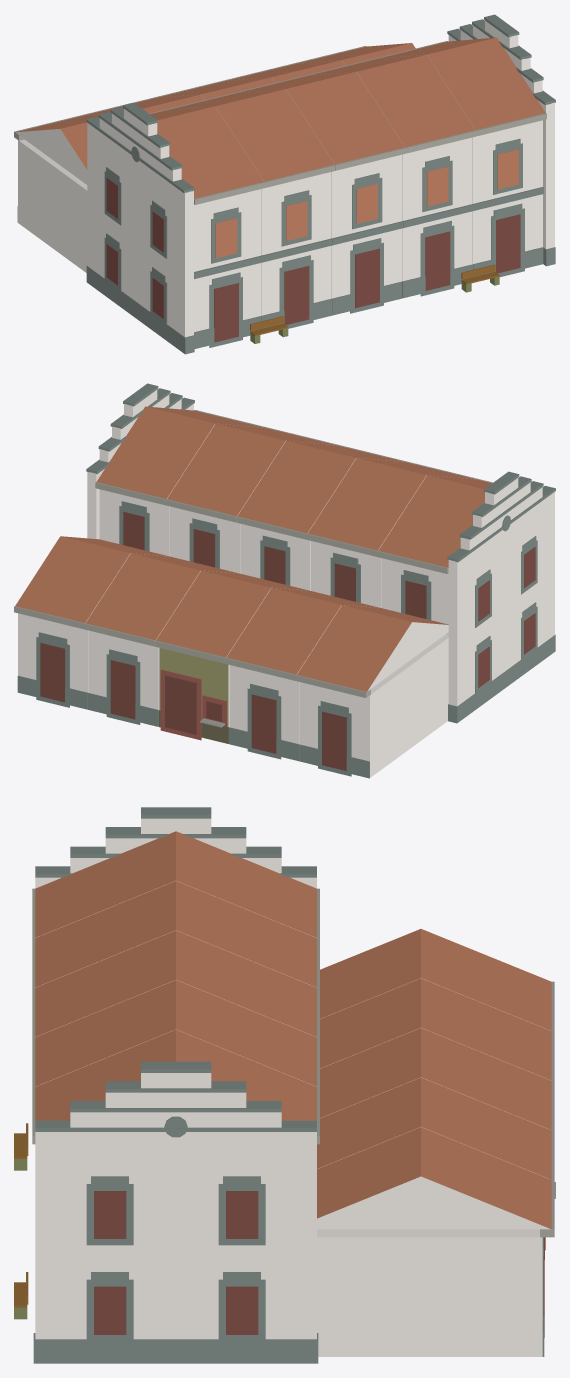
File: SM_EdificioViajerosNules_v1_Segura_LOD1.fbx
The picture shows the model from 3 angles, top to bottom: view 1: azimuth 30°, elevation 25°; view 2: azimuth 150°, elevation 25°; view 3: azimuth 270°, elevation 25°; orthographic projection. The views are drawn at different scales.
Parts seen in each view (by area): view 1: SM_edificio_viajeros_nules_v1_LOD1; view 2: SM_edificio_viajeros_nules_v1_LOD1; view 3: SM_edificio_viajeros_nules_v1_LOD1.
Boxes of the visible parts, x1,y1,x2,y2 form: SM_edificio_viajeros_nules_v1_LOD1: (14,14,555,354); SM_edificio_viajeros_nules_v1_LOD1: (14,383,555,778); SM_edificio_viajeros_nules_v1_LOD1: (14,807,555,1363).
Size of the model in its own units: 21.12 by 11.24 by 18.48.
